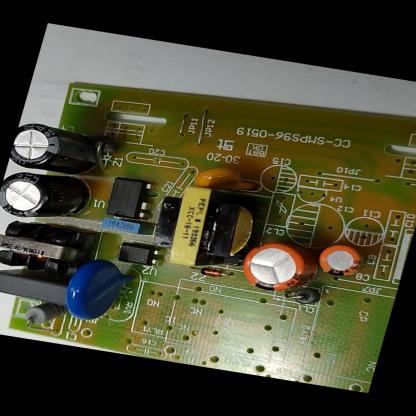Cap1: (235, 236, 316, 295)
Cap2: (314, 240, 367, 279)
Cap3: (0, 164, 97, 229)
Cap4: (8, 120, 105, 178)
MOSFET: (101, 175, 155, 221)
Mov: (58, 255, 136, 327)
Resistor: (21, 302, 62, 330)
Transformer: (144, 181, 266, 275), (0, 216, 93, 282)
